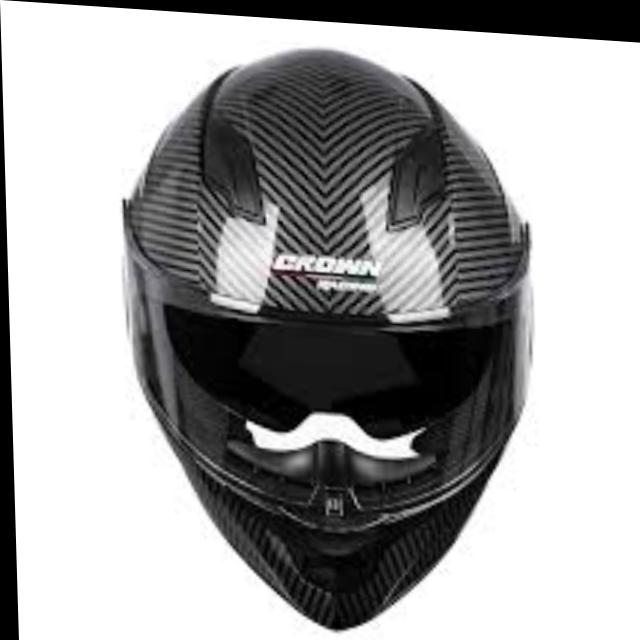motorcycle-helmets: (123, 51, 530, 623)
